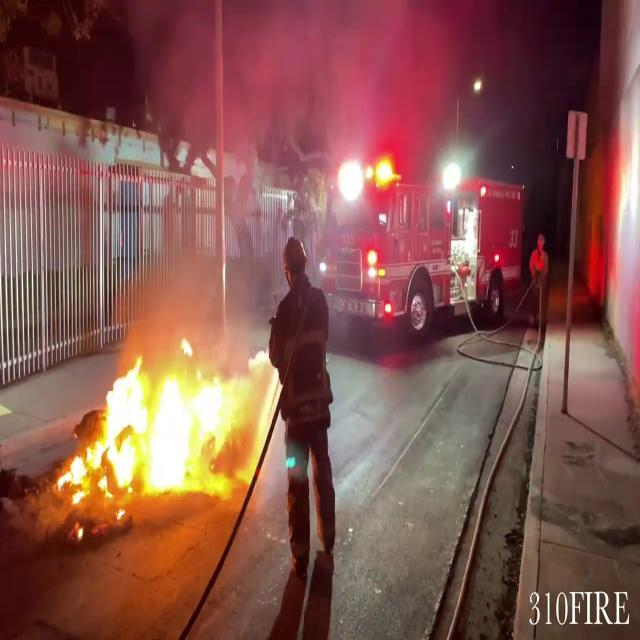Fire: (57, 333, 257, 507)
Smoke: (594, 1, 640, 382)
